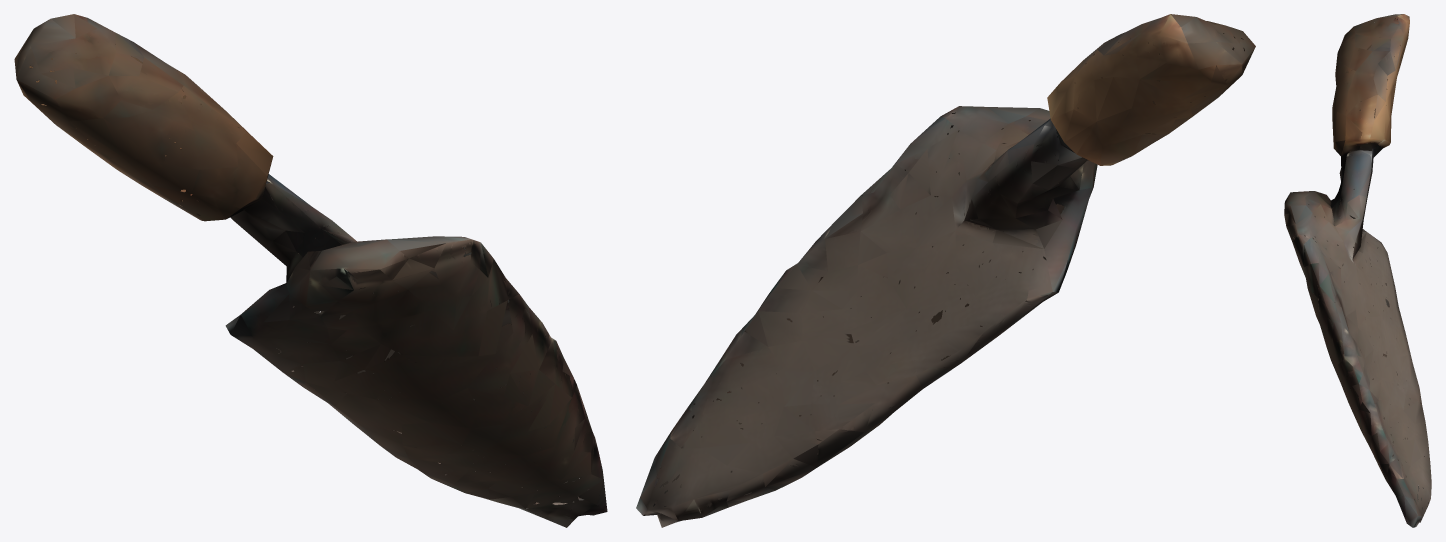
File: 15_mason.fbx
The picture shows the model from 3 angles, left to right: view 1: azimuth 30°, elevation 25°; view 2: azimuth 150°, elevation 25°; view 3: azimuth 270°, elevation 25°; orthographic projection. The views are drawn at different scales.
Visible parts, largest first — view 1: 15_mason; view 2: 15_mason; view 3: 15_mason.
Part boxes in pixels (bbox=[...]): 15_mason: bbox=[14, 14, 607, 527]; 15_mason: bbox=[636, 14, 1255, 527]; 15_mason: bbox=[1284, 14, 1431, 527].
Bounding box in the file's own units: 27.68 × 28 × 10.23.
1 material, 1 textured.
